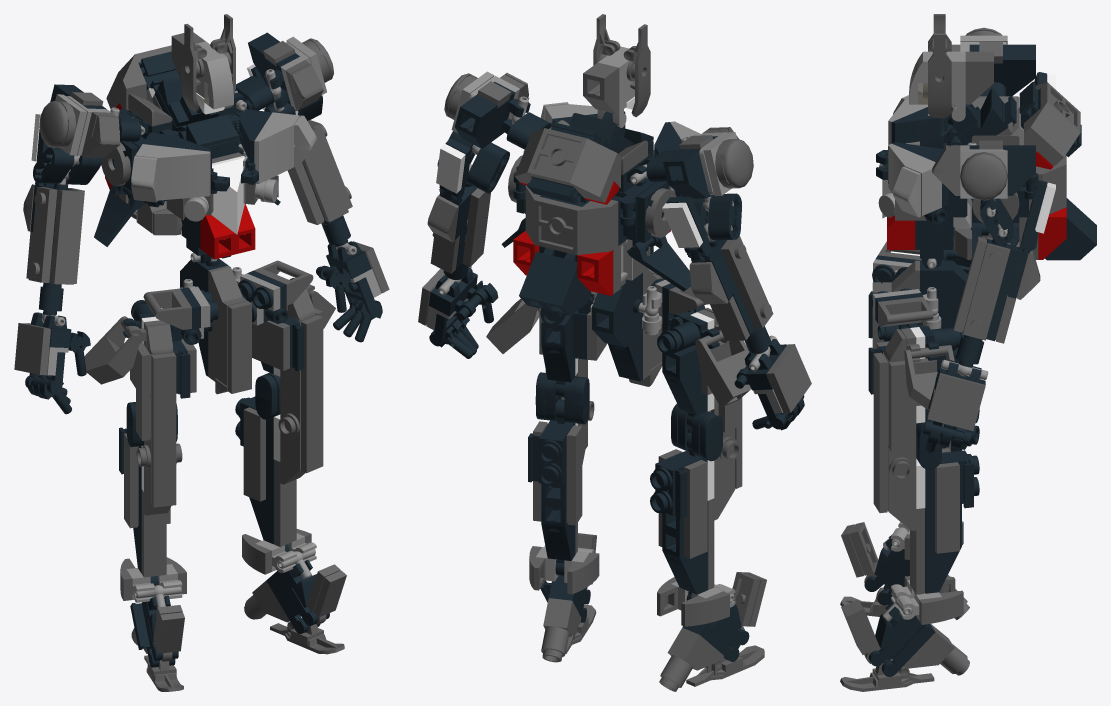
File: sap-01g-sentinel.dae
The picture shows the model from 3 angles, left to right: view 1: azimuth 30°, elevation 25°; view 2: azimuth 150°, elevation 25°; view 3: azimuth 270°, elevation 25°; orthographic projection. The views are drawn at different scales.
Size of the model in its own units: 349 by 217 by 582.
